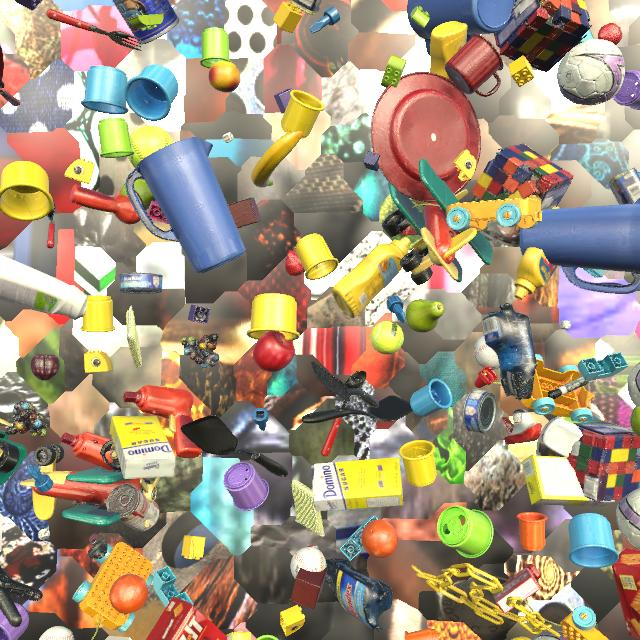ycb_002_master_chef_can: (112, 0, 180, 45)
ycb_003_cracker_box: (146, 597, 227, 640), (612, 548, 640, 639)
ycb_004_sugar_box: (522, 454, 615, 507), (312, 457, 403, 511), (109, 416, 176, 479), (226, 632, 251, 640)
ycb_005_tomato_soup_can: (107, 484, 159, 532)
ycb_006_mustard_bottle: (332, 237, 411, 318), (514, 207, 560, 300), (430, 21, 468, 91)
ycb_007_tuna_fish_can: (463, 389, 497, 433), (119, 273, 163, 294)
ycb_009_gelatin_box: (493, 568, 541, 614)
ycb_010_potted_meat_can: (609, 168, 640, 205), (289, 0, 322, 15)
ycb_011_banana: (251, 131, 303, 188)
ycb_012_strawberry: (598, 23, 622, 45), (285, 251, 305, 276)
ycb_013_apple: (253, 331, 295, 372)
ycb_014_lemon: (511, 637, 531, 640)
ycb_015_peach: (209, 61, 240, 93)
ycb_016_pear: (405, 299, 445, 333), (119, 179, 156, 210), (630, 406, 640, 437)
ycb_017_orange: (109, 574, 148, 614), (361, 519, 398, 558)
ycb_018_plum: (30, 354, 60, 381), (631, 272, 634, 277)
